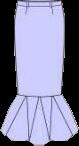Hemline: (0, 129, 78, 145)
Waistline: (17, 93, 61, 97), (16, 4, 61, 7), (17, 0, 60, 2)
